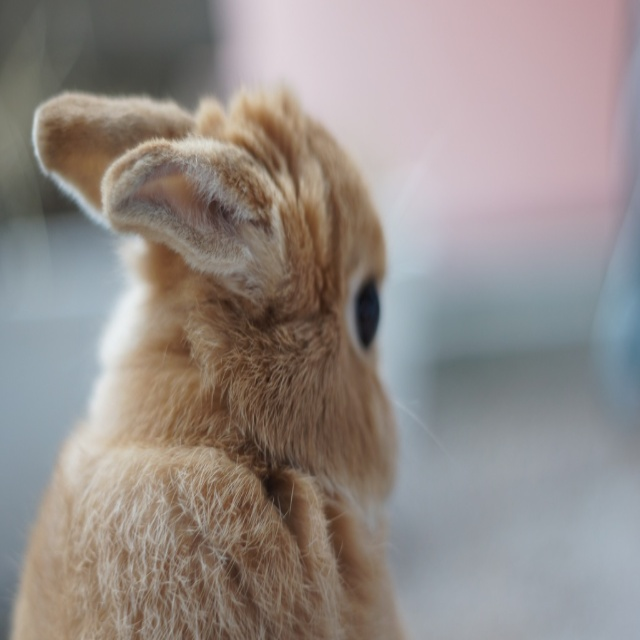Rabbit: (8, 86, 451, 639)
